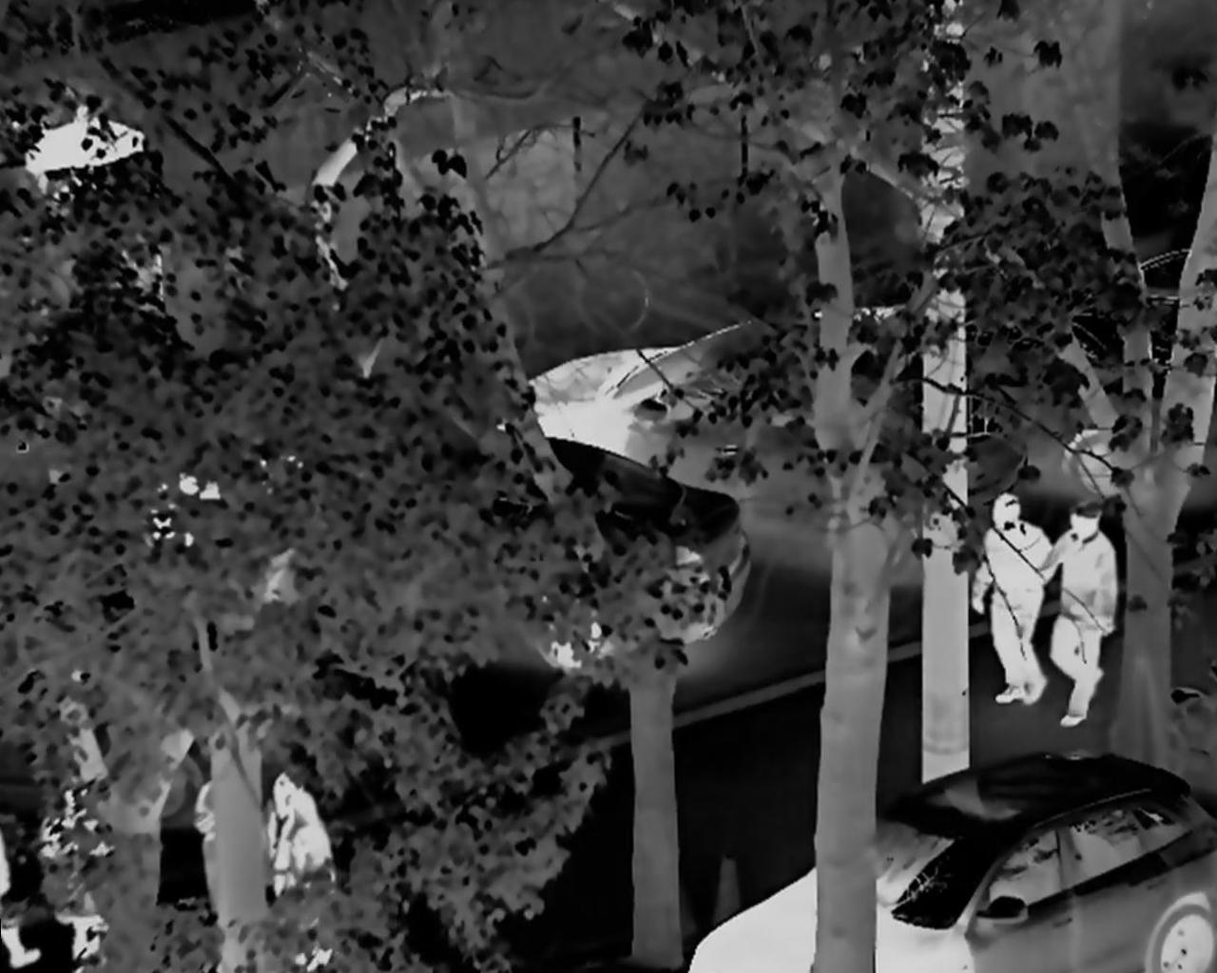person: (974, 495, 1062, 720), (1040, 493, 1116, 723), (260, 769, 334, 966)
